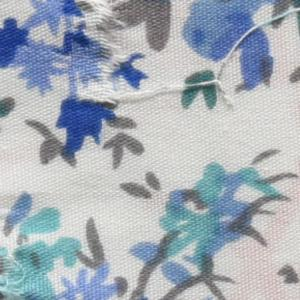Damage: (52, 1, 133, 117), (1, 195, 60, 300)
